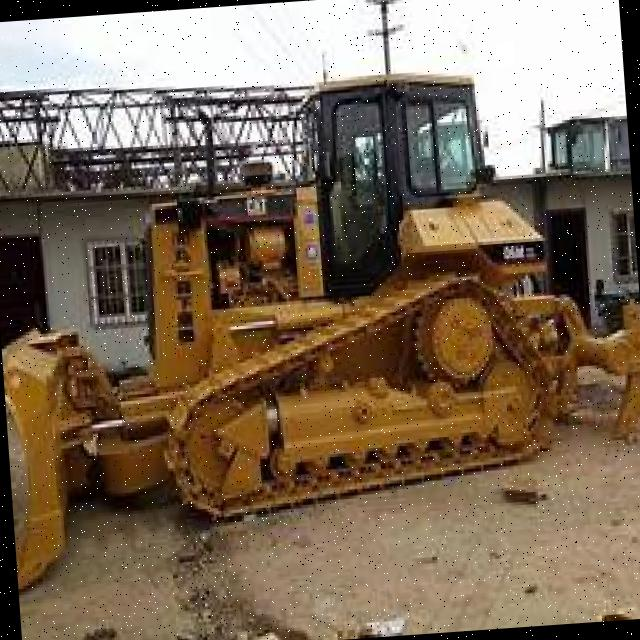Bulldozer: (0, 30, 640, 613)
